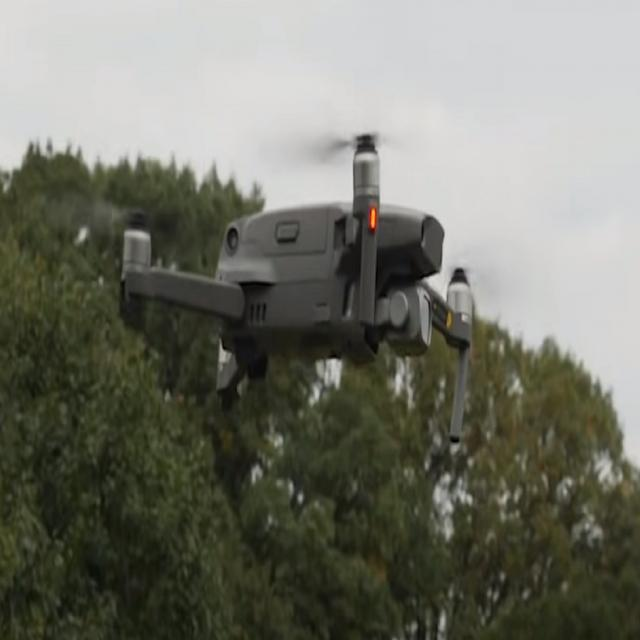drone: (42, 86, 509, 453)
